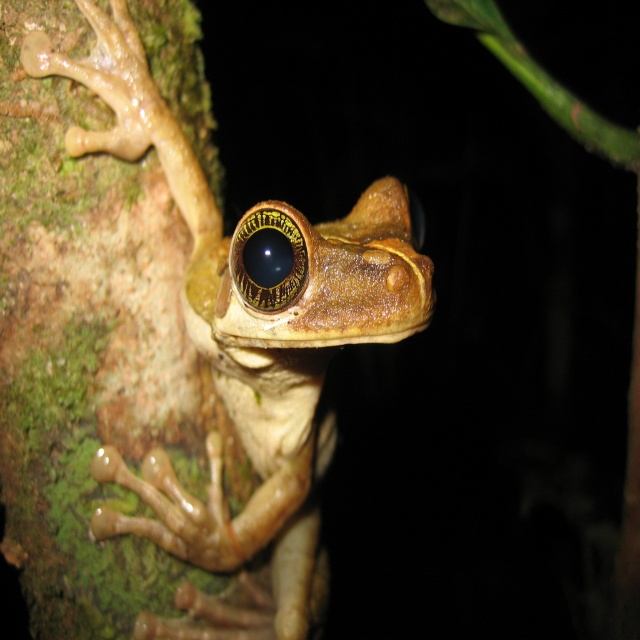Frog: (20, 0, 436, 639)
